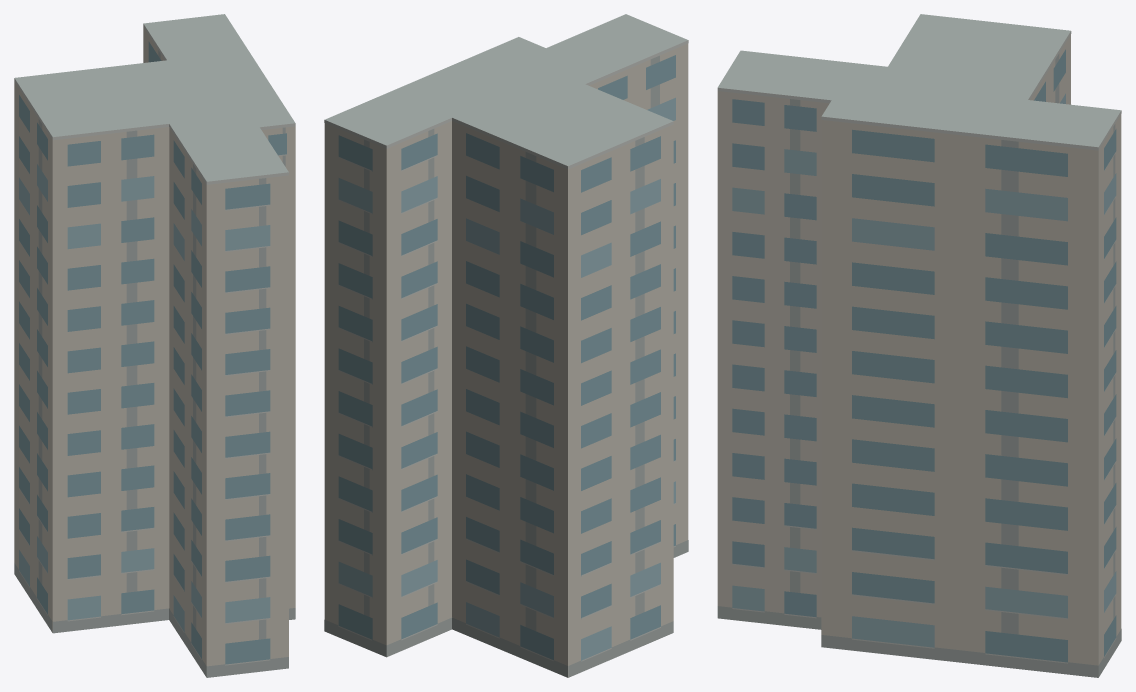
File: residential-f61c54c1-18fb-4380-b04f-2182447f8738.glb
3 renders of one model, left to right at view 1: azimuth 30°, elevation 25°; view 2: azimuth 150°, elevation 25°; view 3: azimuth 270°, elevation 25°, orthographic. The views are drawn at different scales.
Visible parts, largest first — view 1: residential-f61c54c1-18fb-4380-b04f-2182447f8738.tmp; view 2: residential-f61c54c1-18fb-4380-b04f-2182447f8738.tmp; view 3: residential-f61c54c1-18fb-4380-b04f-2182447f8738.tmp.
Boxes of the visible parts, x1,y1,x2,y2 form: residential-f61c54c1-18fb-4380-b04f-2182447f8738.tmp: [14, 14, 295, 677]; residential-f61c54c1-18fb-4380-b04f-2182447f8738.tmp: [324, 14, 688, 677]; residential-f61c54c1-18fb-4380-b04f-2182447f8738.tmp: [717, 14, 1121, 677].
Size of the model in its own units: 21.02 by 39 by 26.92.
